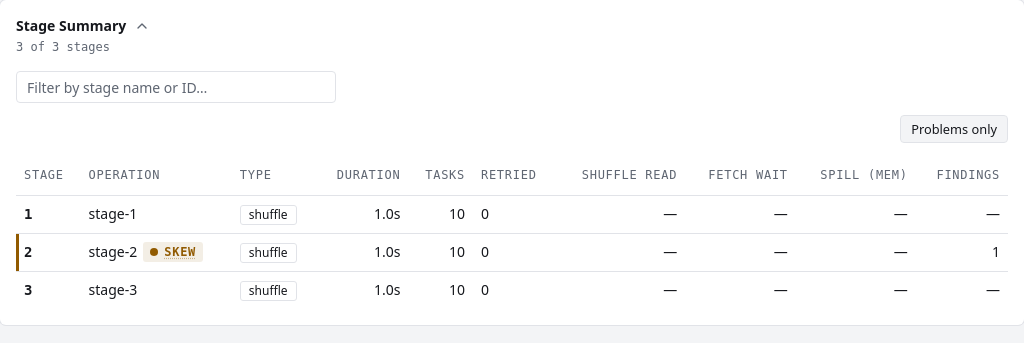
Test: StageTable › defaults to the problem-stage view: only flagged stages are shown
Click the button "Problems only".
click(954, 129)  # box [900,115,1008,143]
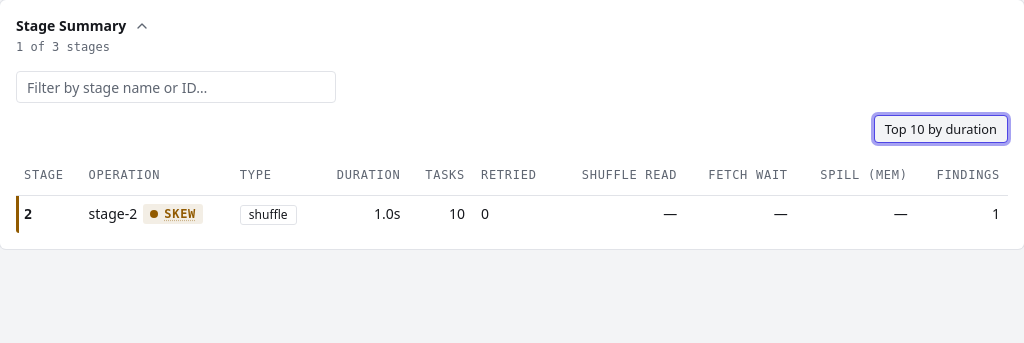
expect the cell "2" is shown: met, box [16,195,81,233]
